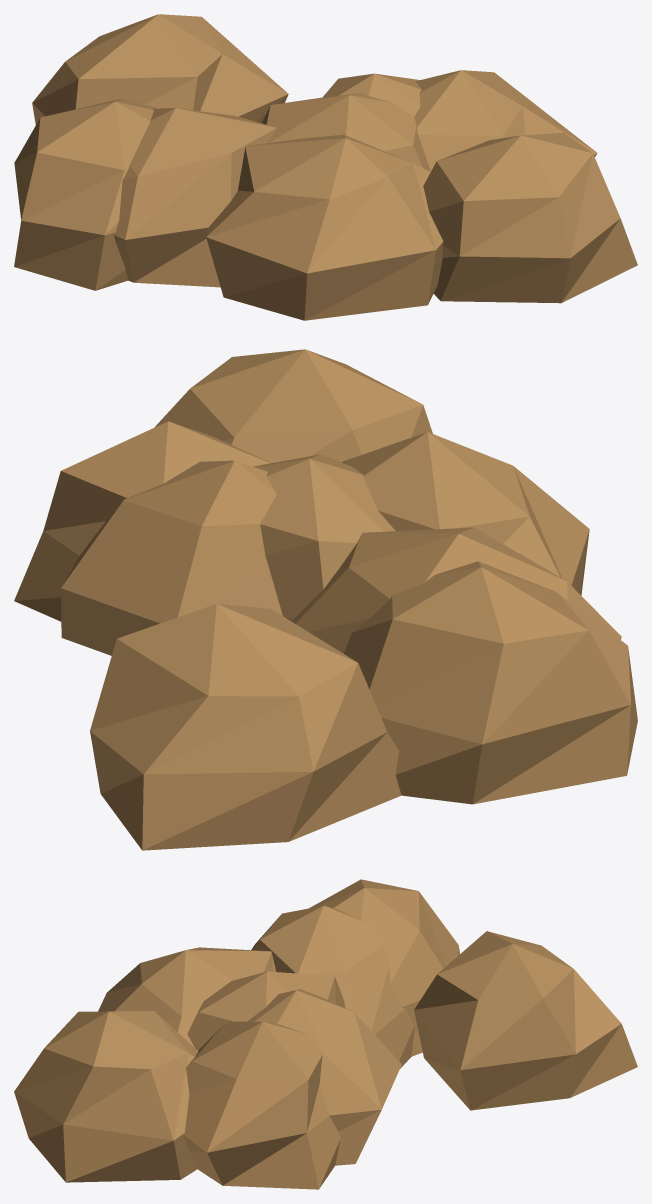
File: food_potato.obj
3 views of the same model, one above another, from view 1: azimuth 30°, elevation 25°; view 2: azimuth 150°, elevation 25°; view 3: azimuth 270°, elevation 25° (orthographic). The views are drawn at different scales.
Visible parts, largest first — view 1: food_potato; view 2: food_potato; view 3: food_potato.
Boxes of the visible parts, left/top/right/bottom form: food_potato: left=14, top=14, right=637, bottom=320; food_potato: left=14, top=349, right=637, bottom=850; food_potato: left=14, top=879, right=637, bottom=1189.
Bounding box in the file's own units: 0.3493 × 0.09 × 0.3981.
